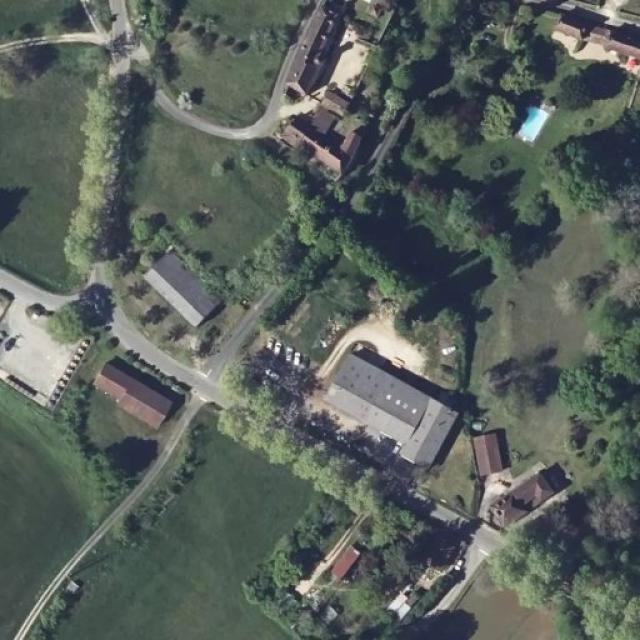ferme: (133, 244, 225, 326), (81, 356, 181, 430), (282, 94, 366, 157), (500, 467, 564, 518), (475, 434, 504, 474)
immeuble: (280, 0, 337, 91)
piscine: (512, 92, 556, 146)
usine: (311, 345, 465, 468)
